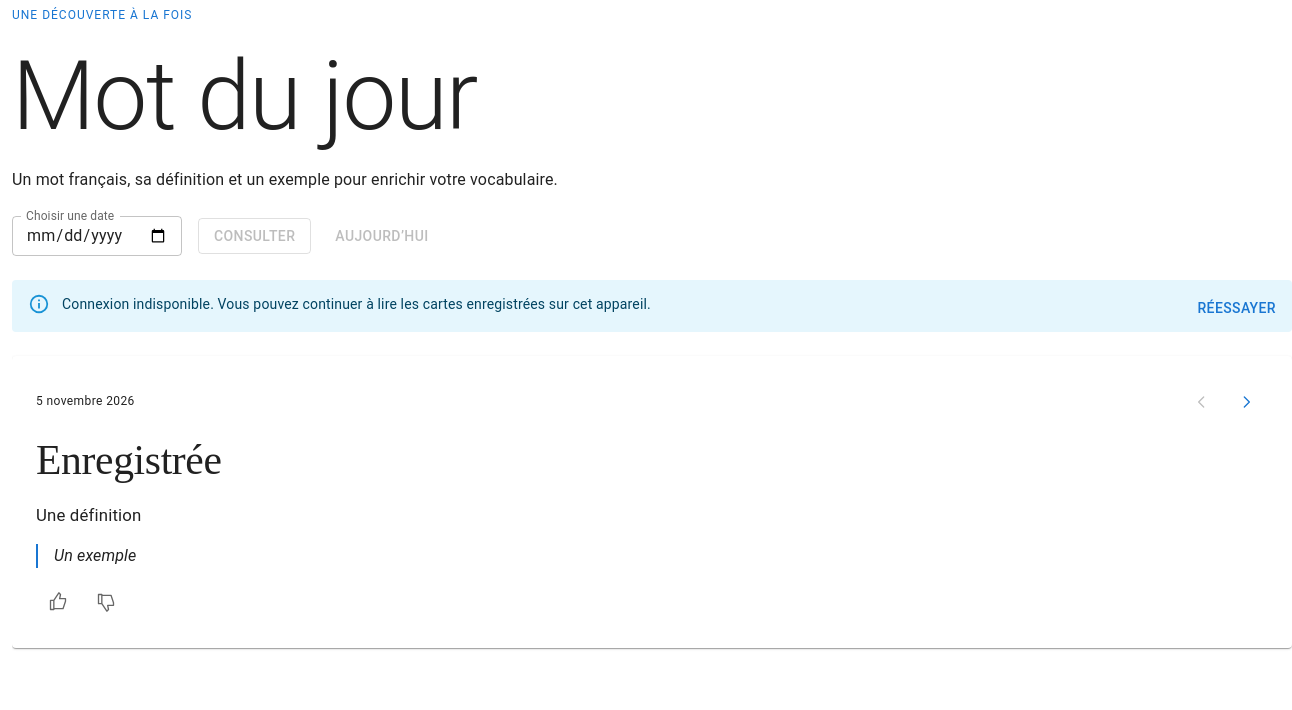
conserve les cartes hors connexion et permet de réessayer
Expected: the text "Vous pouvez continuer à lire" is shown, [62,296,651,312]
Expected: the heading "Enregistrée" is shown, [36,437,222,483]
What coordinates should you click on to do the following:
click the button "Réessayer"
I would click on:
 (1237, 308)
Its box is [1189,290,1284,326].
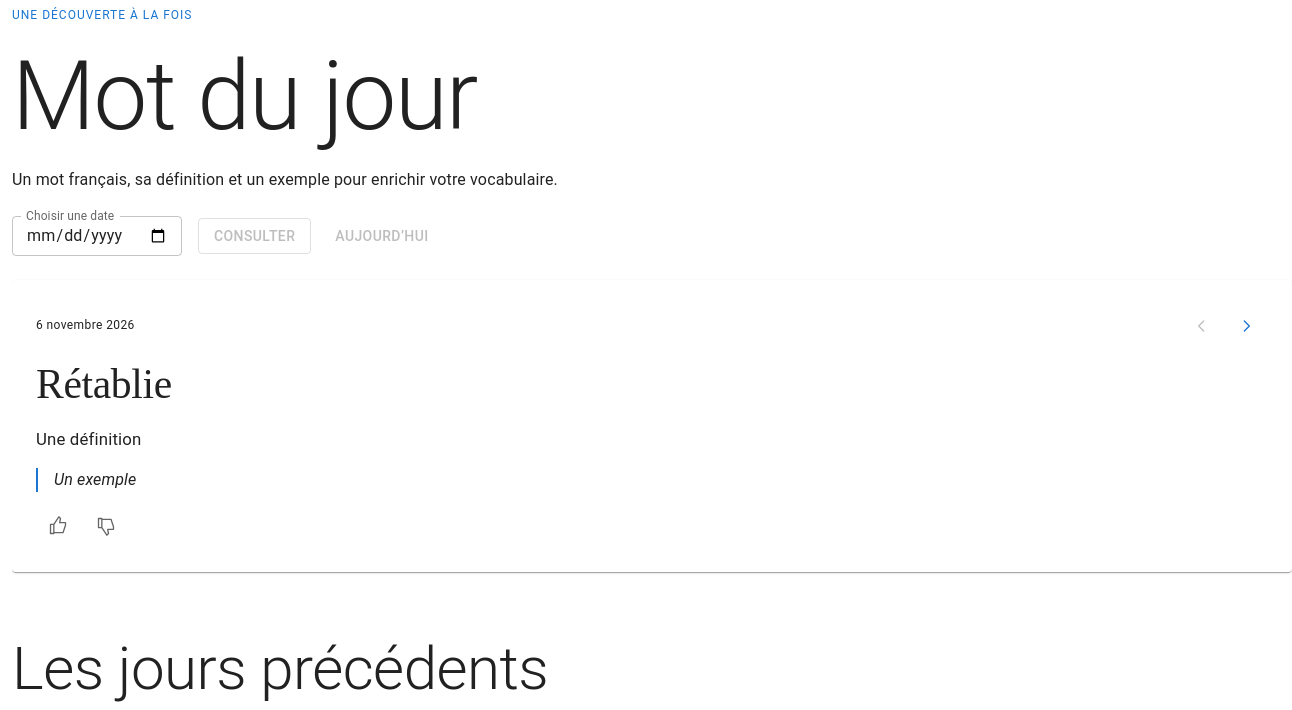
Now the heading "Rétablie" is shown, box [36,361,172,407]
